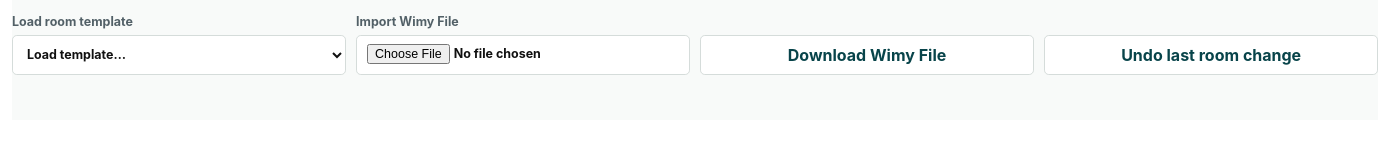
Test: FileAndTemplateControls › revokes the export URL and removes its anchor when clicking throws
This screenshot has width=1390, height=160.
What coordinates should you click on to do the following:
click the button with aria-label "Export .wimy"
I would click on:
 (867, 55)
Its box is [700,35,1034,75].
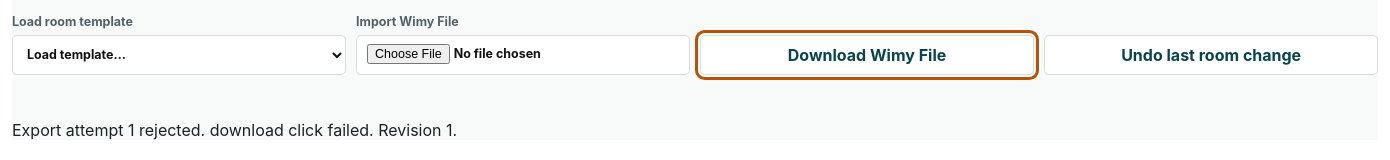
Now the message shows "Export attempt 1 rejected. download click failed", box [12,120,457,140]
